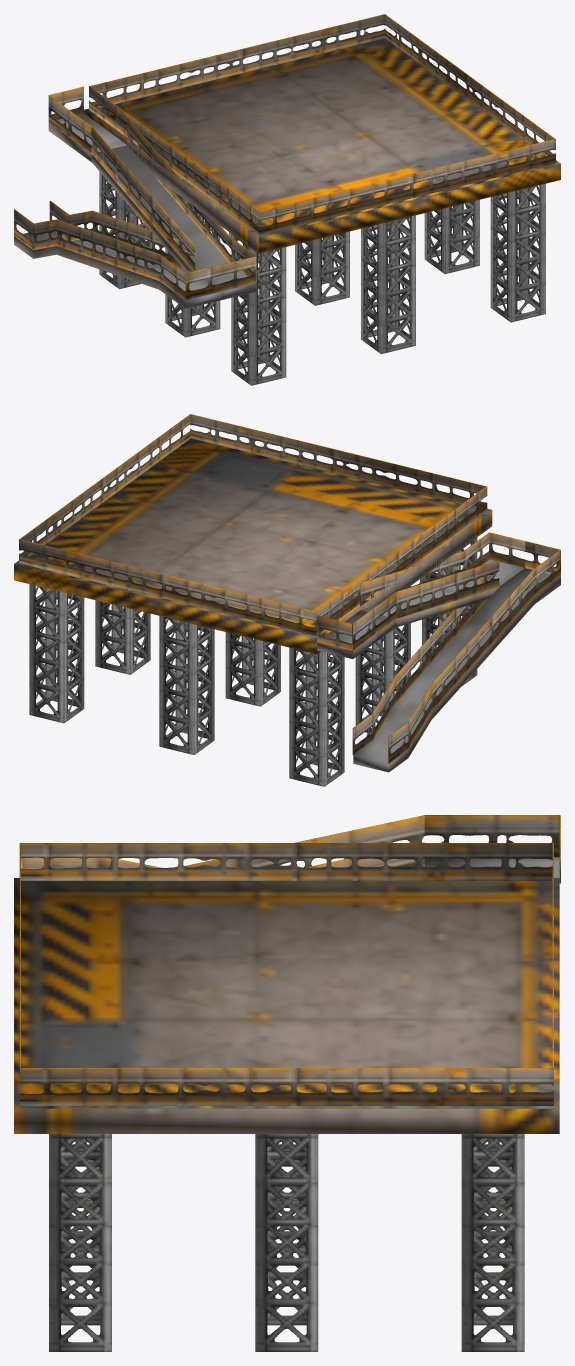
File: aeroport_01.dae
3 views of the same model, one above another, from view 1: azimuth 30°, elevation 25°; view 2: azimuth 150°, elevation 25°; view 3: azimuth 270°, elevation 25° (orthographic). The views are drawn at different scales.
Visible parts, largest first — view 1: BARRACKS.003; view 2: BARRACKS.003; view 3: BARRACKS.003.
Boxes of the visible parts, x1,y1,x2,y2 form: BARRACKS.003: (14,14,560,385); BARRACKS.003: (14,414,560,786); BARRACKS.003: (14,815,560,1351).
Size of the model in its own units: 32.64 by 26.51 by 15.17.
